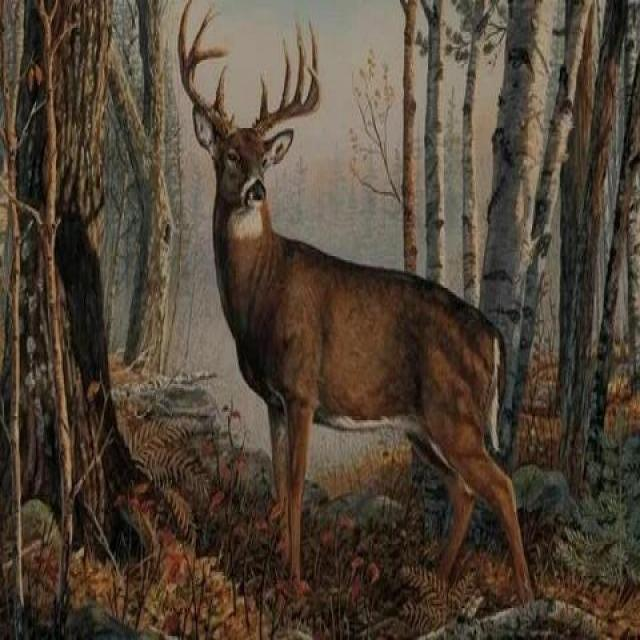deer: (119, 0, 548, 608)
